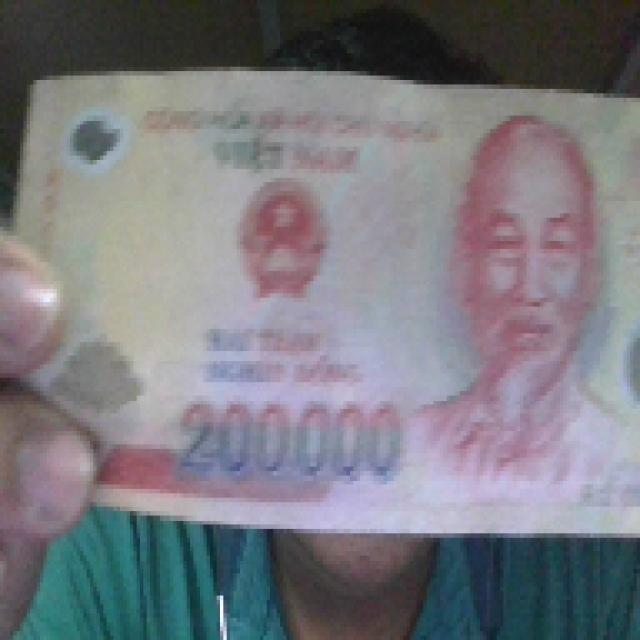200 000 VND: (6, 60, 636, 536)
